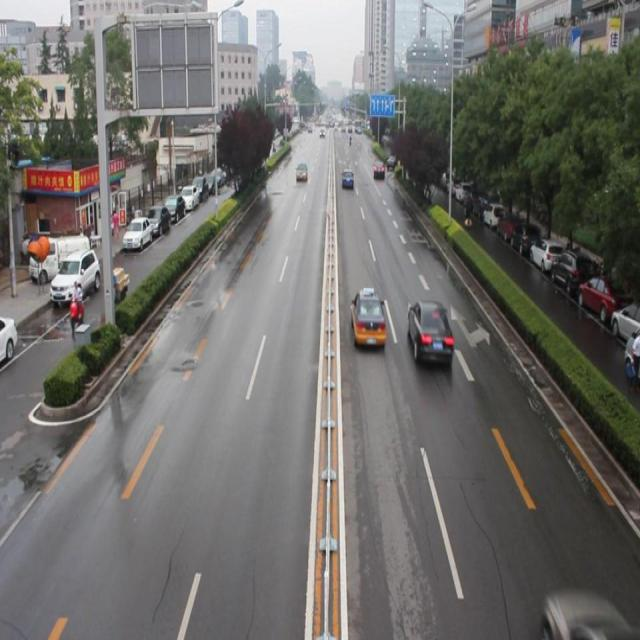car: (541, 590, 640, 640), (406, 298, 453, 369), (350, 286, 385, 349), (295, 162, 308, 184), (371, 159, 385, 179), (341, 167, 353, 189)
